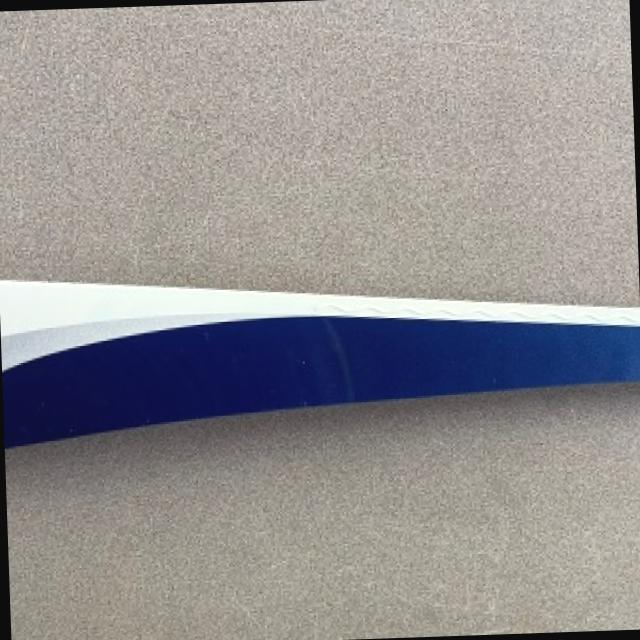healthy: (0, 278, 640, 446)
